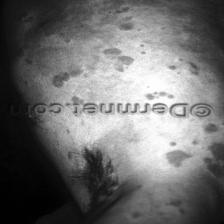Toxin: (15, 8, 134, 88), (163, 140, 224, 180)
